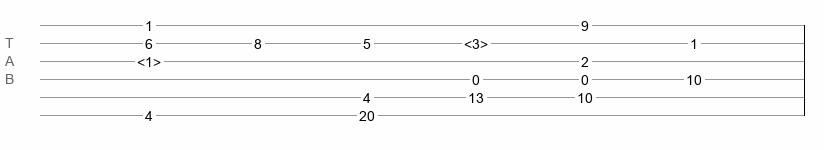0: (472, 72, 480, 82), (581, 72, 589, 82)
1: (145, 18, 153, 28), (690, 36, 698, 46)
10: (577, 90, 593, 100), (686, 72, 702, 82)
13: (468, 90, 484, 100)
2: (581, 54, 589, 64)
20: (359, 108, 375, 118)
4: (145, 108, 153, 118), (363, 90, 371, 100)
5: (363, 36, 371, 46)
6: (145, 36, 153, 46)
8: (254, 36, 262, 46)
9: (581, 18, 589, 28)
harmonic: (137, 54, 161, 64), (464, 36, 488, 46)
